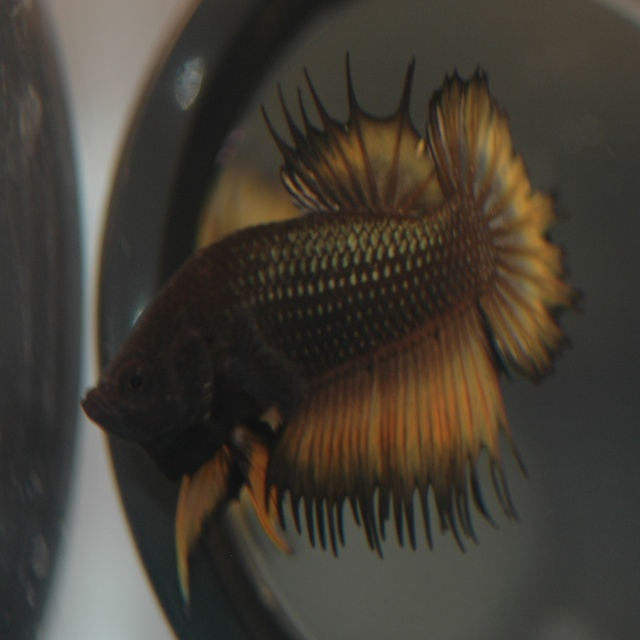Fish: (82, 53, 596, 623)
